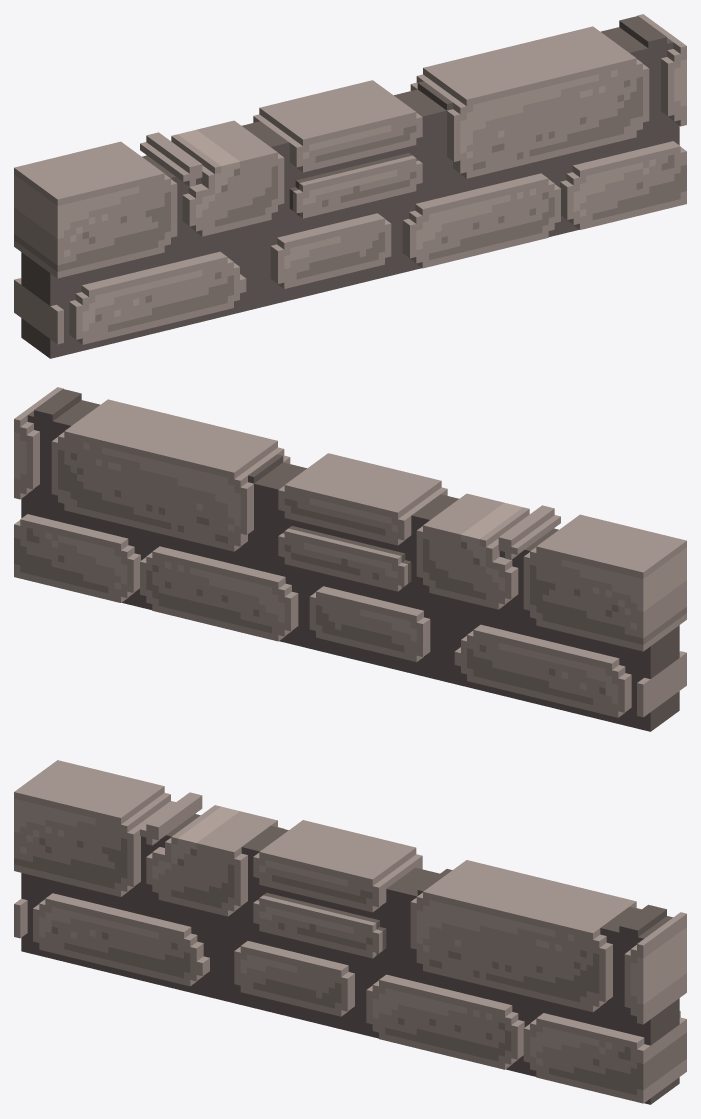
The model's file is GGJ low walls 1.obj.
The picture shows the model from 3 angles, top to bottom: view 1: azimuth 30°, elevation 25°; view 2: azimuth 150°, elevation 25°; view 3: azimuth 330°, elevation 25°; orthographic projection.
Bounding box in the file's own units: 10 × 2.6 × 1.2.
1 material, 1 textured.
